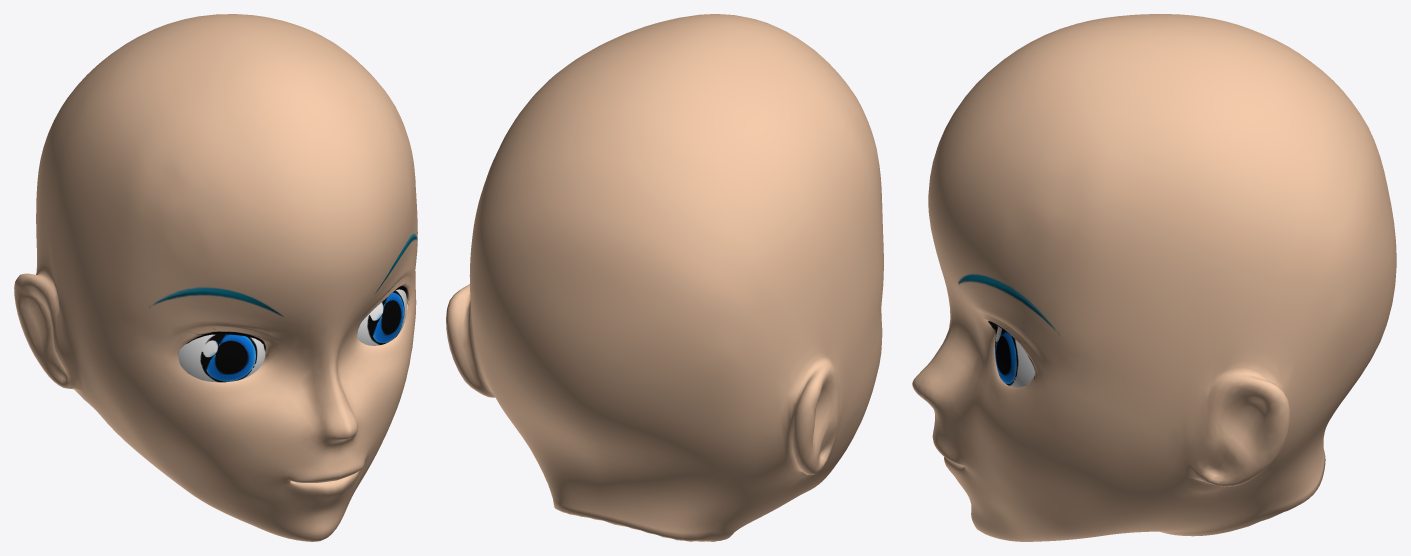
Rendered from Character_Head_Model.fbx.
3 views of the same model, side by side, from view 1: azimuth 30°, elevation 25°; view 2: azimuth 150°, elevation 25°; view 3: azimuth 270°, elevation 25° (orthographic). The views are drawn at different scales.
Parts seen in each view (by area): view 1: Head, Right_Eye_Ball, Left_Eye_Ball; view 2: Head; view 3: Head, Left_Eye_Ball.
Part boxes in pixels (x1=…): Head: x1=14, y1=14, x2=417, y2=541; Right_Eye_Ball: x1=178, y1=334, x2=265, y2=382; Left_Eye_Ball: x1=357, y1=289, x2=406, y2=345; Head: x1=446, y1=14, x2=883, y2=541; Head: x1=912, y1=14, x2=1396, y2=541; Left_Eye_Ball: x1=995, y1=326, x2=1034, y2=387.
Size of the model in its own units: 1 by 1.27 by 1.12.
Materials: 3 (3 with a texture image).
